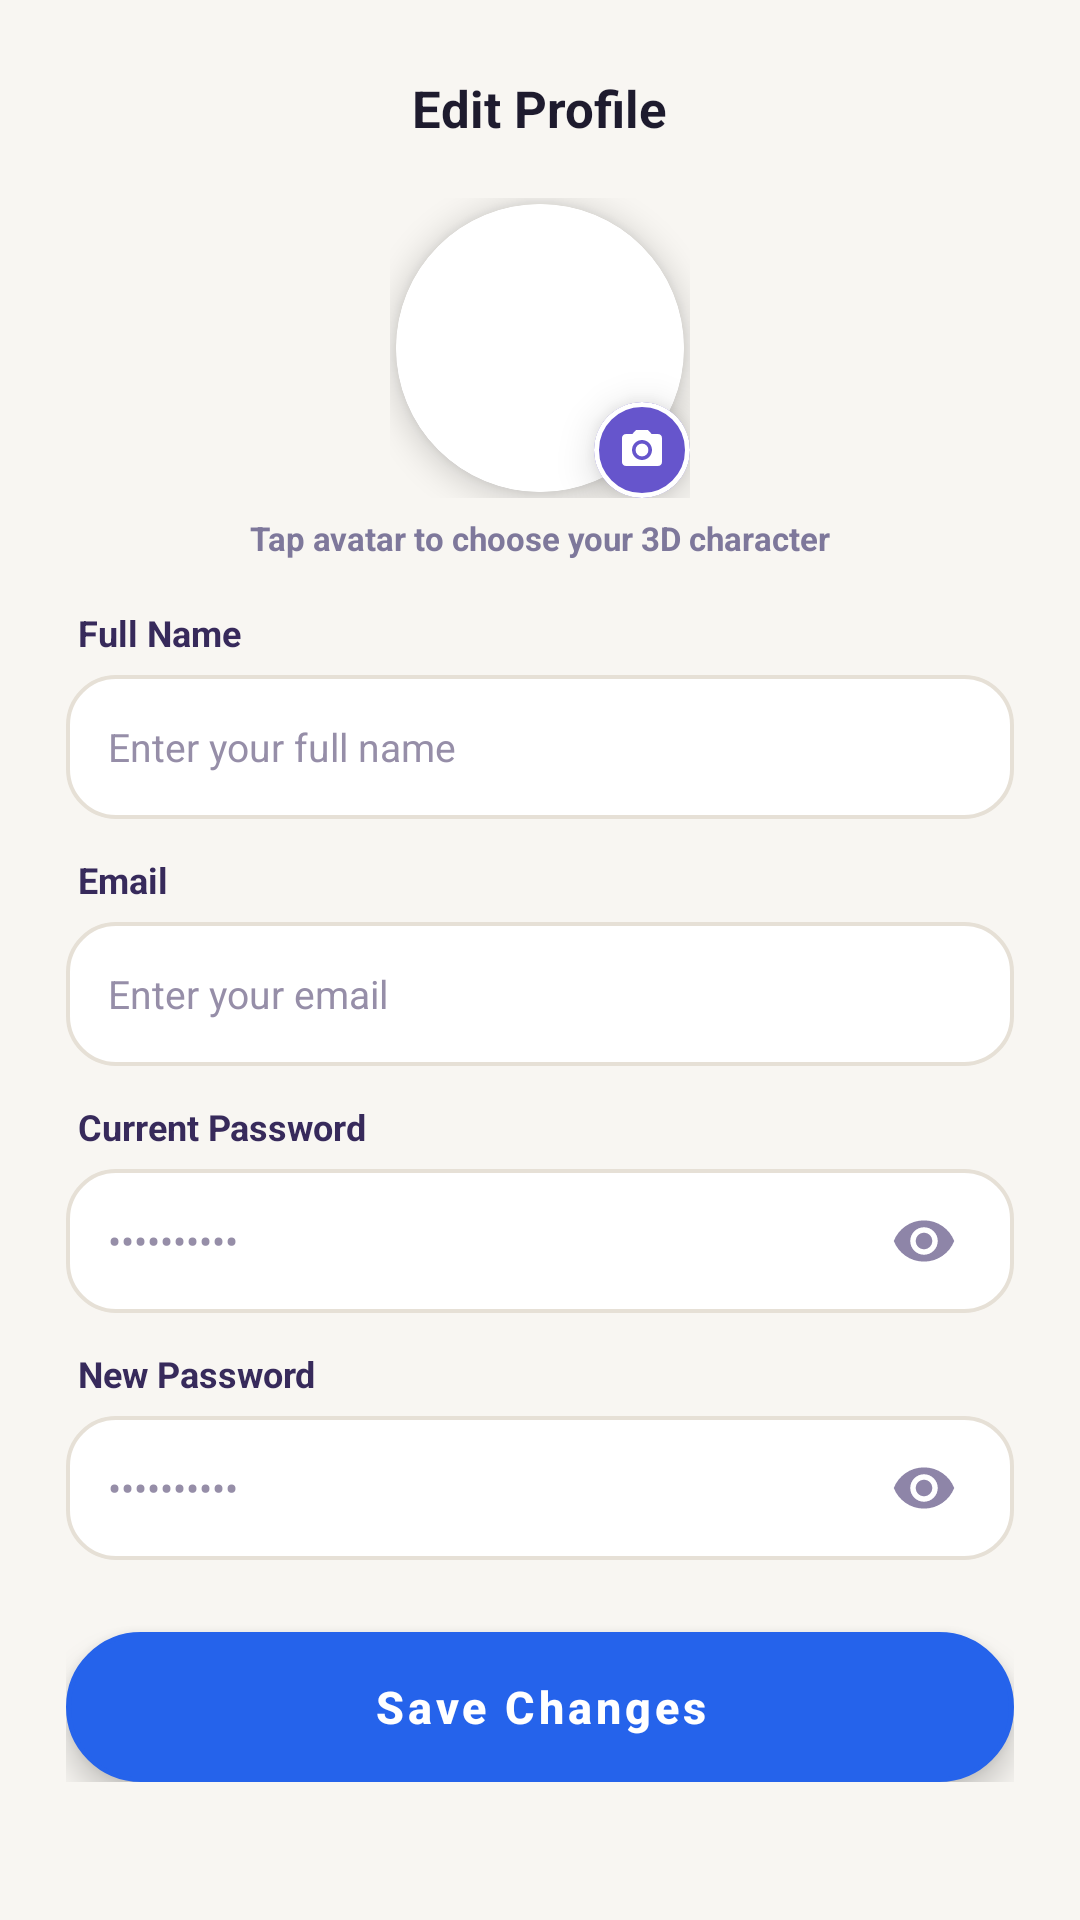

Icon click points for this 1080x1920 phone screenshot, format [x,y]:
Modifier l'avatar: [642,448]
Toggle New Password: [924,1488]
Toggle Old Password: [924,1241]
